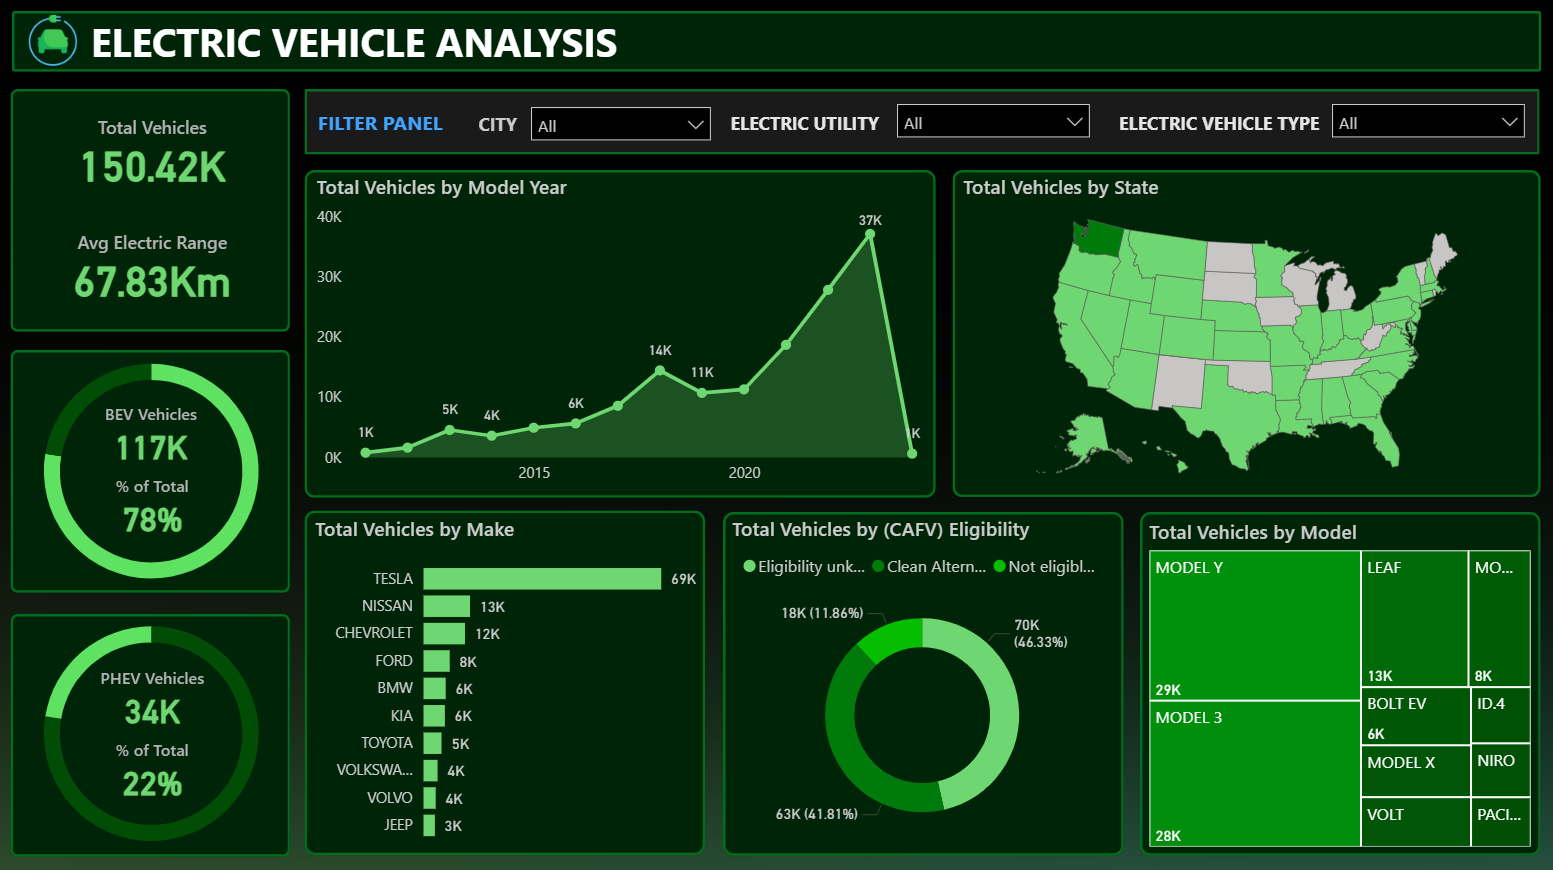

Layout of this report page (visuals, bound fields, positions):
{"tool":"powerbi","page":{"name":"Electric Vehicle Analysis Dashboard","canvas":[1280,720],"ordinal":0},"visuals":[{"type":"shape","box":[9.5,9.5,1259.8,50],"z":0},{"type":"textbox","box":[66.7,7.6,450,54.5],"z":1000},{"type":"image","box":[22.7,12.1,42.4,42.4],"z":2000},{"type":"shape","box":[9.1,74.2,230.3,200],"z":3000},{"type":"cardVisual","title":"Total Vehicles","fields":{"Data":["Electric_Vehicle_Population_Data.Total Vehicles"]},"box":[24.2,95.5,201.5,63.6],"z":4000},{"type":"cardVisual","title":"Avg Electric Range","fields":{"Data":["Electric_Vehicle_Population_Data.Avg Range"]},"box":[24.2,190.9,201.5,63.6],"z":5000},{"type":"shape","box":[9.1,289.4,230.3,200],"z":6000},{"type":"shape","box":[9.1,506.1,230.3,200],"z":7000},{"type":"donutChart","fields":{"Category":["Electric_Vehicle_Population_Data.Electric Vehicle Type"],"Y":["Electric_Vehicle_Population_Data.Total Vehicles"]},"box":[8.1,273,231.1,231.1],"z":8000},{"type":"donutChart","fields":{"Category":["Electric_Vehicle_Population_Data.Electric Vehicle Type"],"Y":["Electric_Vehicle_Population_Data.Total Vehicles"]},"box":[8.1,489.3,231.1,231.1],"z":9000},{"type":"cardVisual","title":"BEV Vehicles","fields":{"Data":["Electric_Vehicle_Population_Data.BEV Vehicles"]},"box":[43.3,332.5,162.2,54.1],"z":10000},{"type":"cardVisual","title":"% of Total","fields":{"Data":["Electric_Vehicle_Population_Data.% of BEV"]},"box":[43.9,392.2,162,54.5],"z":11000},{"type":"cardVisual","title":"PHEV Vehicles","fields":{"Data":["Electric_Vehicle_Population_Data.PHEV Vehicles"]},"box":[43.9,549.7,162,54.5],"z":12000},{"type":"cardVisual","title":"% of Total","fields":{"Data":["Electric_Vehicle_Population_Data.% of PHEV"]},"box":[43.9,608.7,162,54.5],"z":13000},{"type":"shape","box":[251.4,74.2,1017.5,54],"z":14000},{"type":"shape","box":[251.4,140.8,520,270],"z":15000},{"type":"areaChart","fields":{"Category":["Electric_Vehicle_Population_Data.Model Year"],"Y":["Electric_Vehicle_Population_Data.Total Vehicles"]},"box":[255.9,143.8,513.3,265],"z":16000},{"type":"shape","box":[784.4,140.8,484.5,269.5],"z":17000},{"type":"shapeMap","fields":{"Category":["Electric_Vehicle_Population_Data.State"],"Value":["Electric_Vehicle_Population_Data.Total Vehicles"]},"box":[788.9,143.8,477,263.5],"z":18000},{"type":"shape","box":[251.4,421.7,330,283.9],"z":19000},{"type":"shape","box":[595.1,422.5,330.1,283.2],"z":20000},{"type":"shape","box":[938.8,422.5,330.1,283.2],"z":21000},{"type":"barChart","fields":{"Category":["Electric_Vehicle_Population_Data.Make"],"Y":["Electric_Vehicle_Population_Data.Total Vehicles"]},"box":[254.4,425.5,324,278.6],"z":22000},{"type":"donutChart","title":"Total Vehicles by (CAFV) Eligibility","fields":{"Category":["Electric_Vehicle_Population_Data.Clean Alternative Fuel Vehicle (CAFV) Eligibility"],"Y":["Electric_Vehicle_Population_Data.Total Vehicles"]},"box":[598.1,425.5,322.5,278.6],"z":23000},{"type":"treemap","fields":{"Group":["Electric_Vehicle_Population_Data.Model"],"Values":["Electric_Vehicle_Population_Data.Total Vehicles"]},"box":[941.8,427,324,275.6],"z":24000},{"type":"textbox","box":[257.4,84.8,122.7,34.8],"z":25000},{"type":"slicer","fields":{"Values":["Electric_Vehicle_Population_Data.City"]},"box":[427.8,78.7,168.1,46.9],"z":26000},{"type":"textbox","box":[389.2,87.8,48.5,31.8],"z":27000},{"type":"slicer","fields":{"Values":["Electric_Vehicle_Population_Data.Electric Utility"]},"box":[729.1,77.2,178.7,46.9],"z":28000},{"type":"textbox","box":[597.4,86.3,136.3,31.8],"z":29000},{"type":"slicer","fields":{"Values":["Electric_Vehicle_Population_Data.Electric Vehicle Type"]},"box":[1088,77.2,178.7,46.9],"z":30000},{"type":"textbox","box":[916.9,86.3,178.7,31.8],"z":31000}]}

Visuals, with their boxes in screenshot pixels (x1, y1, x2, y2), scaled from the page's 1280x720 canvas onto the 1553x870 screenshot:
shape: detection(12, 11, 1540, 72)
textbox: detection(81, 9, 627, 75)
image: detection(28, 15, 79, 66)
shape: detection(11, 90, 290, 331)
"Total Vehicles" cardVisual: detection(29, 115, 274, 192)
"Avg Electric Range" cardVisual: detection(29, 231, 274, 308)
shape: detection(11, 350, 290, 591)
shape: detection(11, 612, 290, 853)
donutChart - Electric_Vehicle_Population_Data.Electric Vehicle Type x Electric_Vehicle_Population_Data.Total Vehicles: detection(10, 330, 290, 609)
donutChart - Electric_Vehicle_Population_Data.Electric Vehicle Type x Electric_Vehicle_Population_Data.Total Vehicles: detection(10, 591, 290, 869)
"BEV Vehicles" cardVisual: detection(53, 402, 249, 467)
"% of Total" cardVisual: detection(53, 474, 250, 540)
"PHEV Vehicles" cardVisual: detection(53, 664, 250, 730)
"% of Total" cardVisual: detection(53, 736, 250, 801)
shape: detection(305, 90, 1540, 155)
shape: detection(305, 170, 936, 496)
areaChart - Electric_Vehicle_Population_Data.Model Year x Electric_Vehicle_Population_Data.Total Vehicles: detection(310, 174, 933, 494)
shape: detection(952, 170, 1540, 496)
shapeMap - Electric_Vehicle_Population_Data.State x Electric_Vehicle_Population_Data.Total Vehicles: detection(957, 174, 1536, 492)
shape: detection(305, 510, 705, 853)
shape: detection(722, 511, 1123, 853)
shape: detection(1139, 511, 1540, 853)
barChart - Electric_Vehicle_Population_Data.Make x Electric_Vehicle_Population_Data.Total Vehicles: detection(309, 514, 702, 851)
"Total Vehicles by (CAFV) Eligibility" donutChart: detection(726, 514, 1117, 851)
treemap - Electric_Vehicle_Population_Data.Model x Electric_Vehicle_Population_Data.Total Vehicles: detection(1143, 516, 1536, 849)
textbox: detection(312, 102, 461, 145)
slicer - Electric_Vehicle_Population_Data.City: detection(519, 95, 723, 152)
textbox: detection(472, 106, 531, 145)
slicer - Electric_Vehicle_Population_Data.Electric Utility: detection(885, 93, 1101, 150)
textbox: detection(725, 104, 890, 143)
slicer - Electric_Vehicle_Population_Data.Electric Vehicle Type: detection(1320, 93, 1537, 150)
textbox: detection(1112, 104, 1329, 143)
